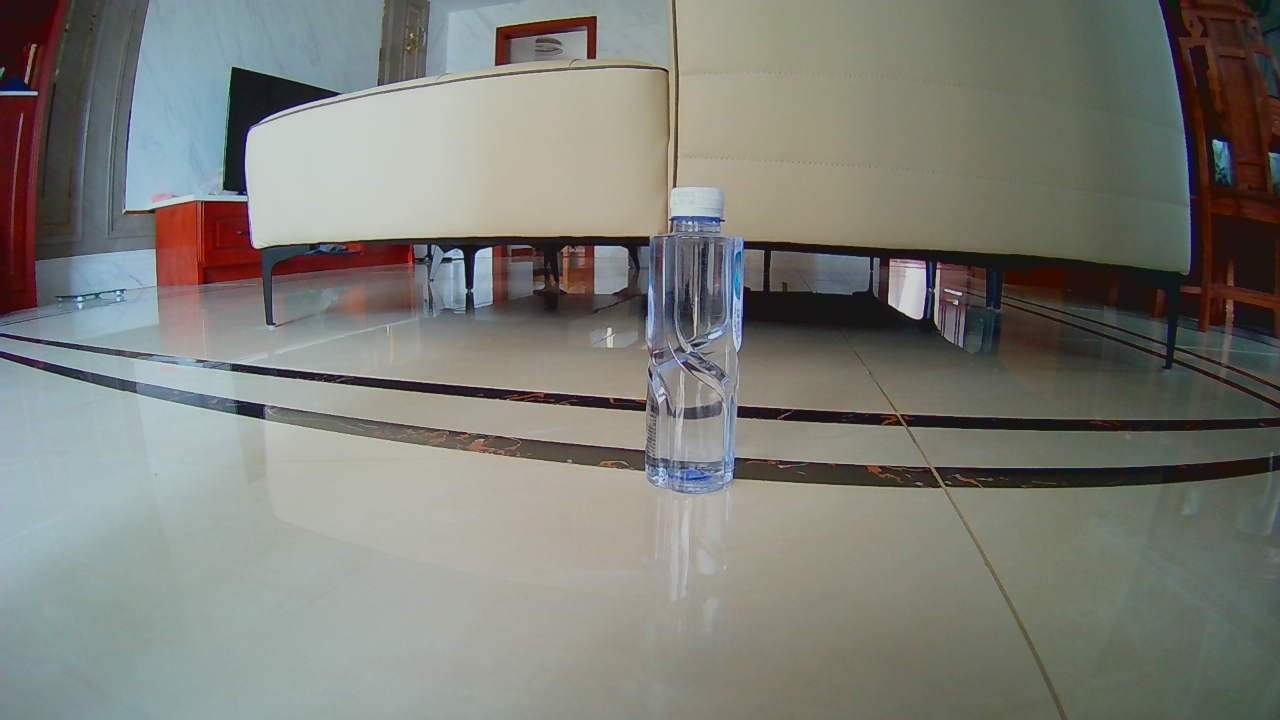water: (649, 192, 735, 485)
